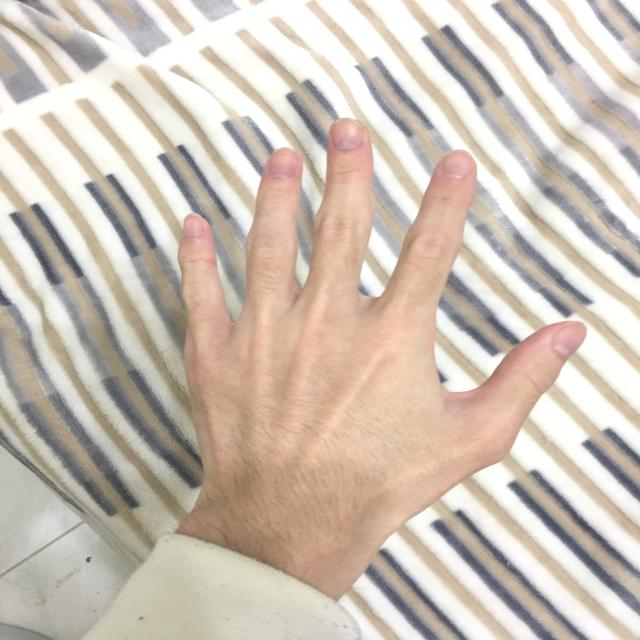no_glove: (155, 102, 599, 543)
